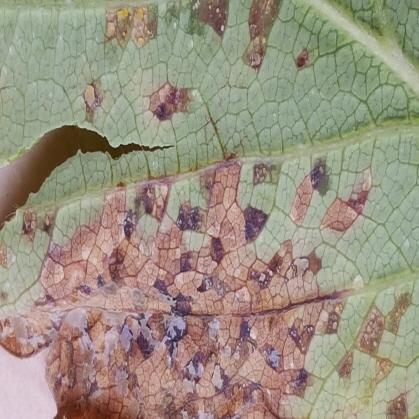Angular Leafspot: (0, 0, 415, 418)
